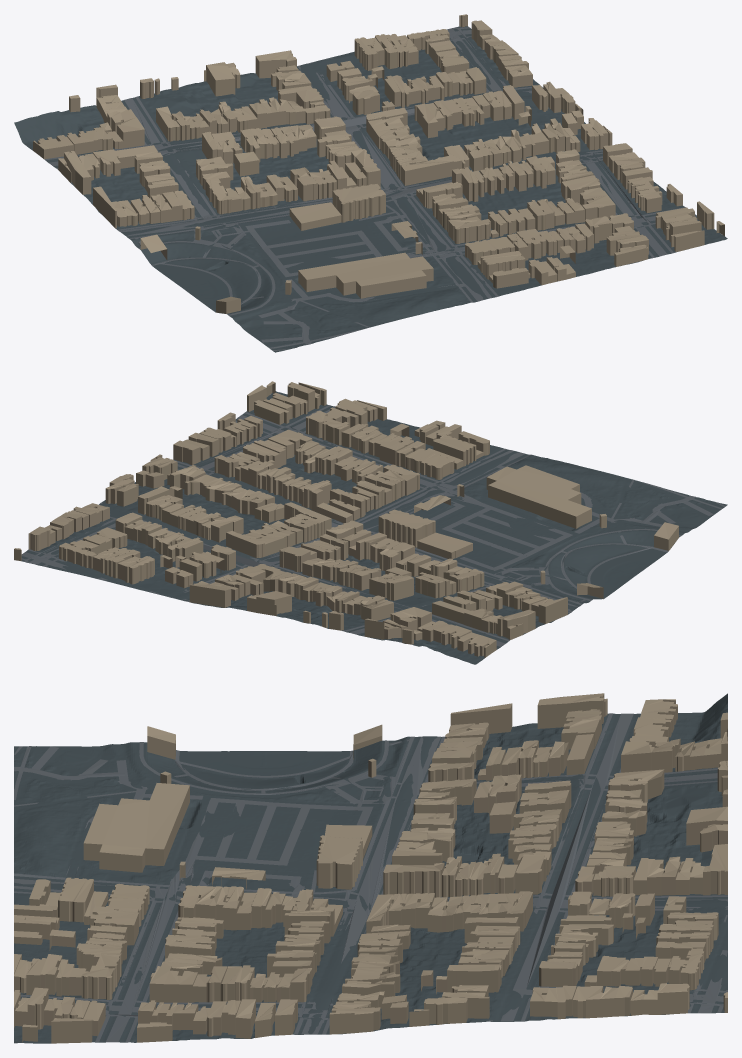
The model's file is epsg26910-1427-10885.lod0.glb.
3 views of the same model, one above another, from view 1: azimuth 30°, elevation 25°; view 2: azimuth 150°, elevation 25°; view 3: azimuth 270°, elevation 25° (orthographic). The views are drawn at different scales.
Visible parts, largest first — view 1: epsg26910-1427-10885-lod0; view 2: epsg26910-1427-10885-lod0; view 3: epsg26910-1427-10885-lod0.
Part boxes in pixels (x1,y1,x2,y2): epsg26910-1427-10885-lod0: [14, 14, 727, 352]; epsg26910-1427-10885-lod0: [14, 381, 727, 664]; epsg26910-1427-10885-lod0: [14, 693, 727, 1043].
Bounding box in the file's own units: 384 × 46.7 × 384.
